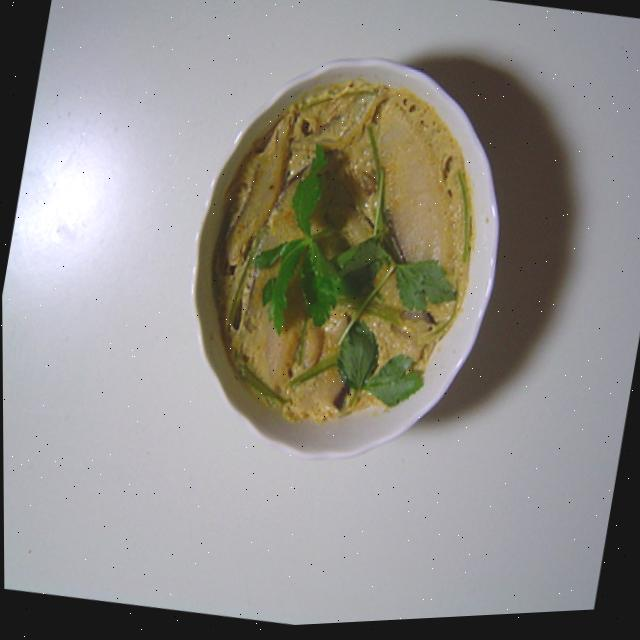鸡蛋料理: (202, 0, 616, 494)
